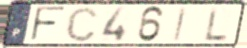4: (99, 6, 130, 43)
6: (136, 5, 164, 43)
C: (64, 5, 100, 43)
F: (29, 5, 68, 43)
I: (172, 6, 189, 42)
L: (204, 5, 229, 42)
